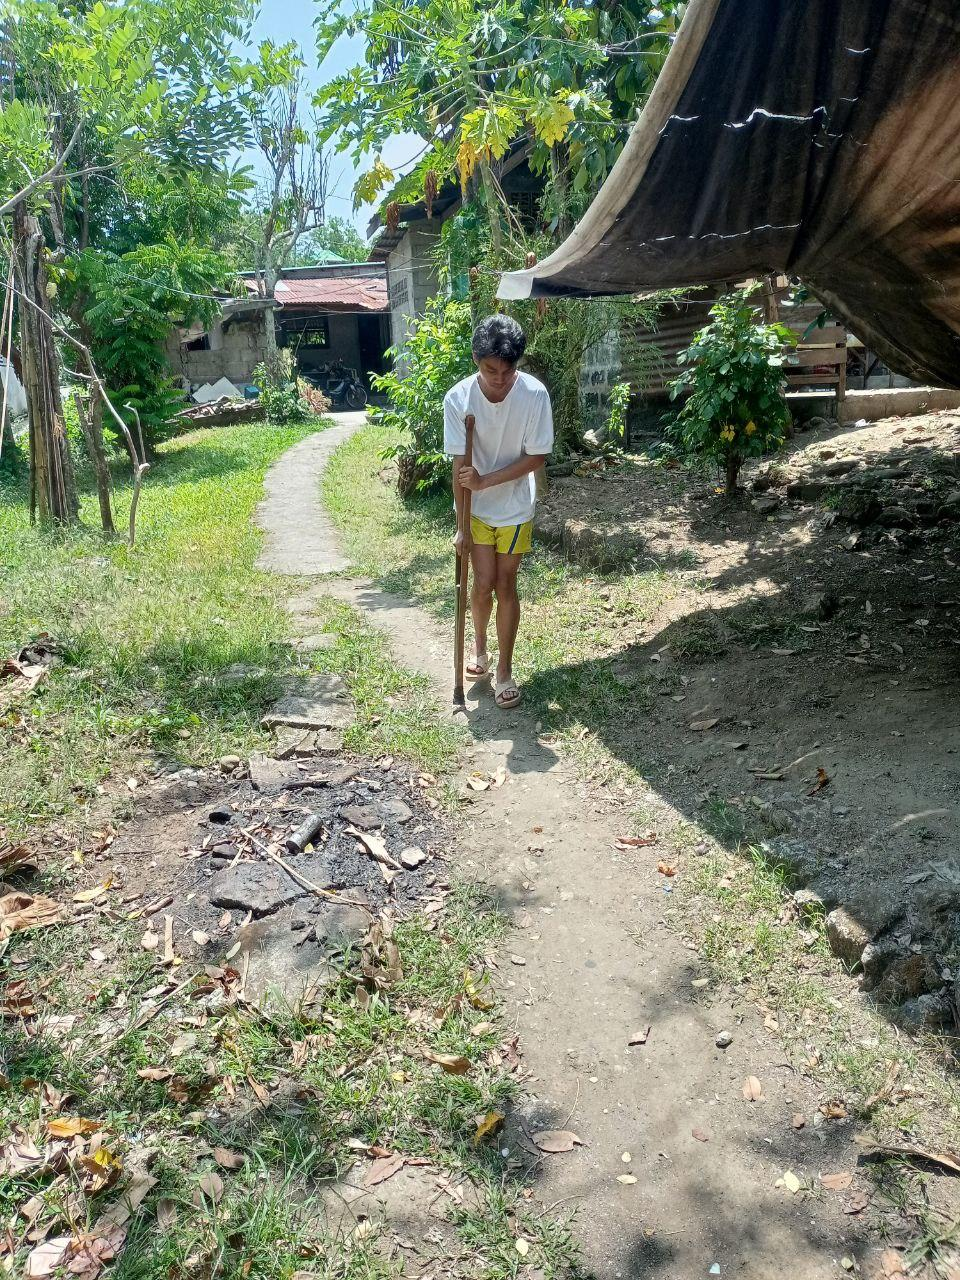crutches: (438, 308, 558, 715)
